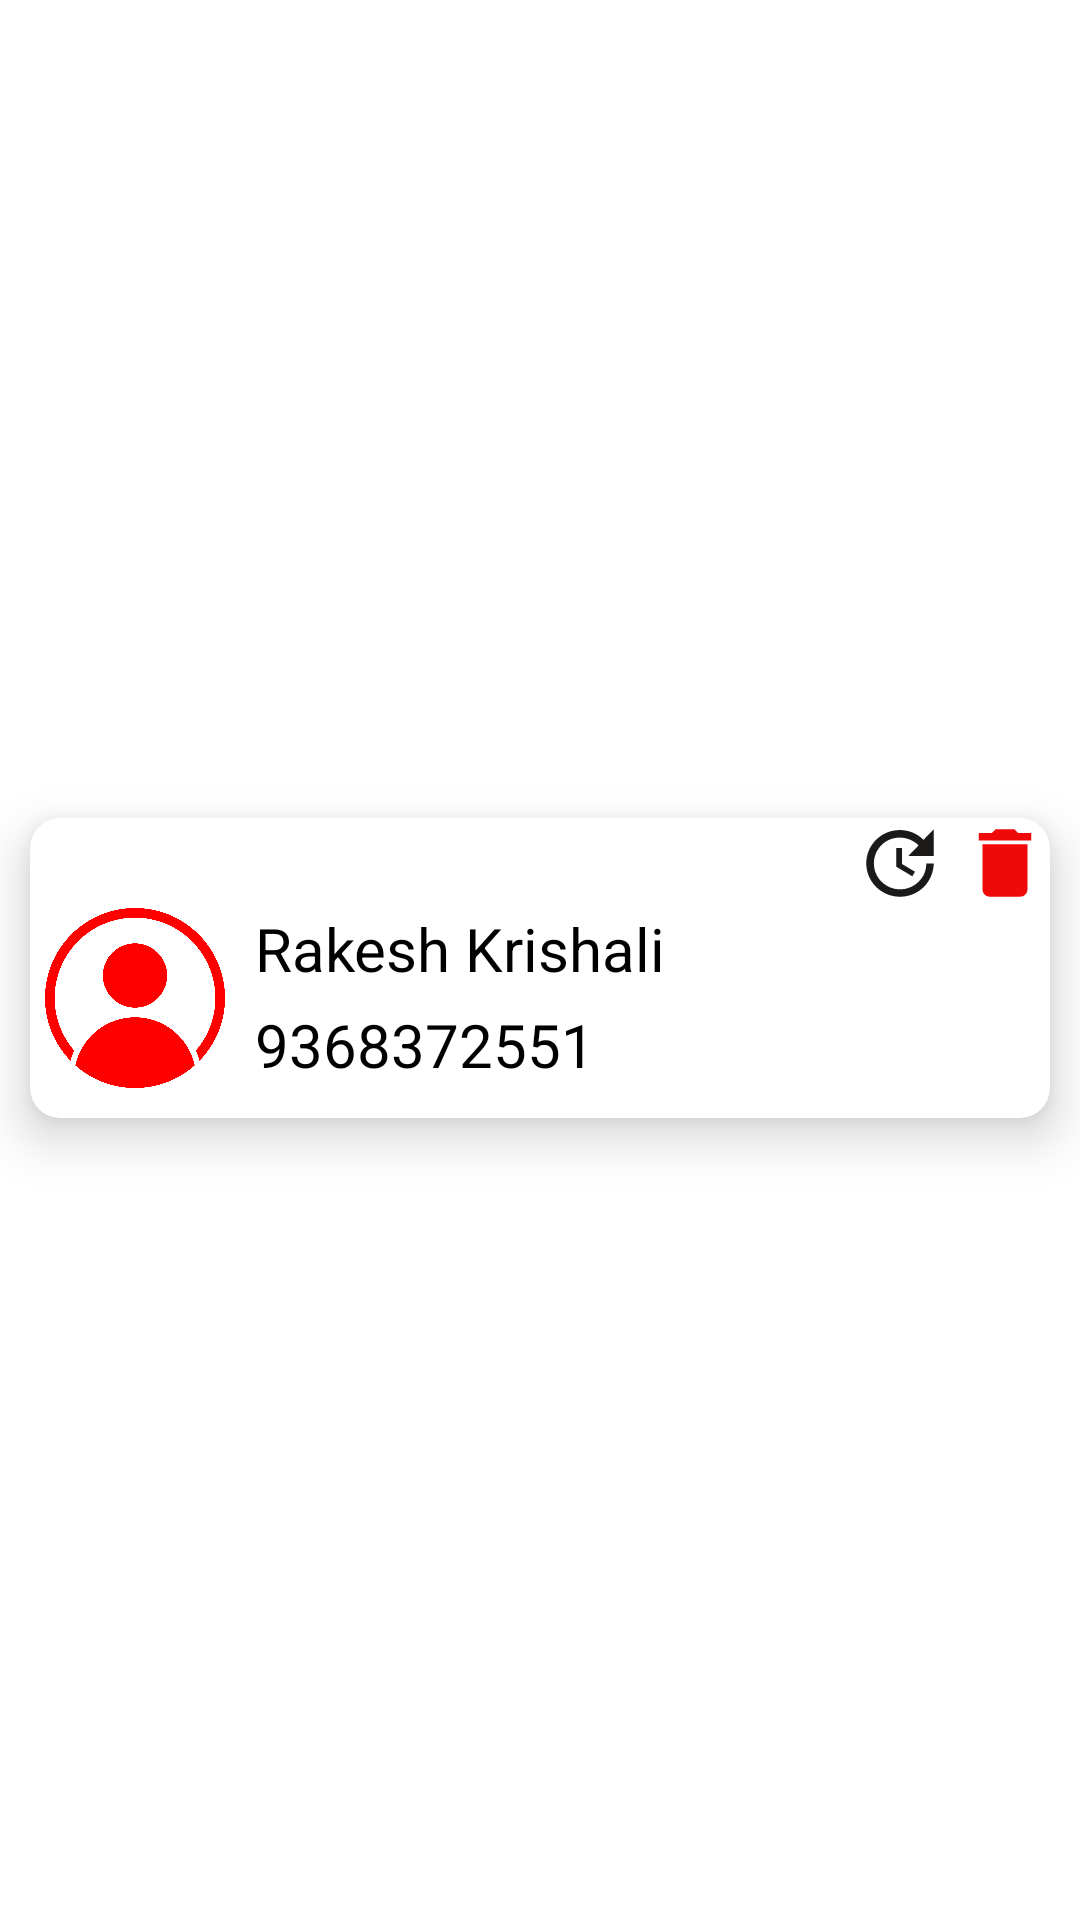

Where to tap for icons on this 1080*1920 app screen, as (x=x, y=y):
contact: (x=135, y=998)
delete: (x=1005, y=863)
